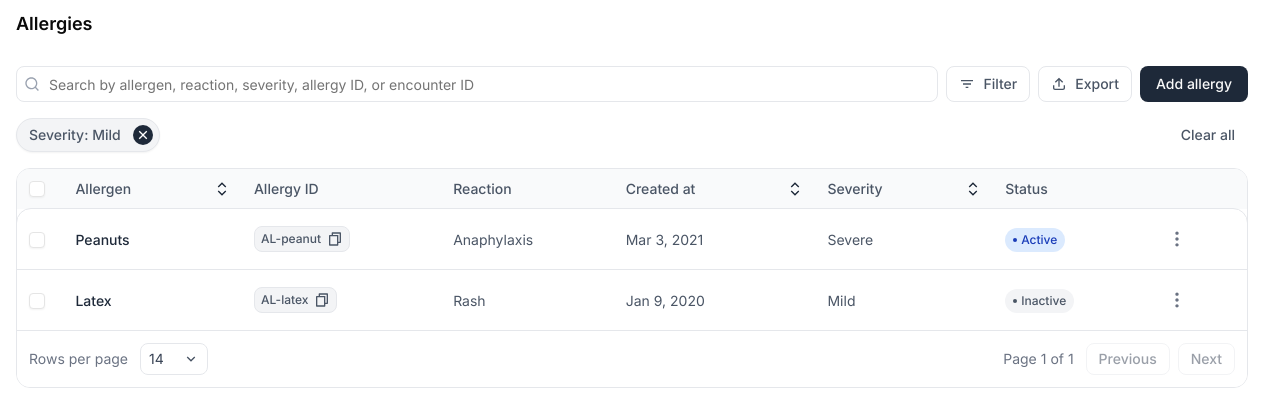
Test case: Allergies table › adds and removes severity filters from the filter menu
Click the button "Filter".
click(988, 84)  # box top-left (946, 66), bottom-right (1030, 102)
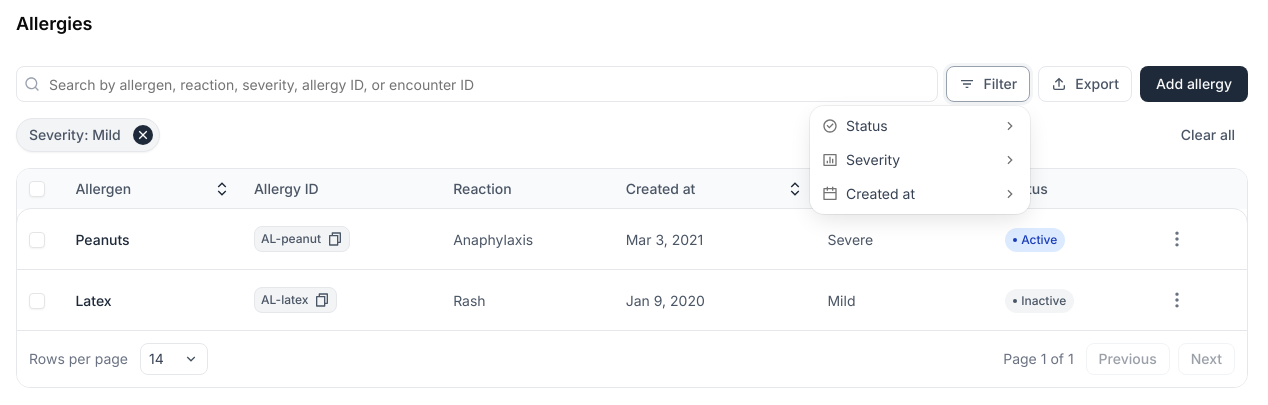
Click the menu item "Severity".
click(873, 160)  # box top-left (822, 151), bottom-right (1018, 168)
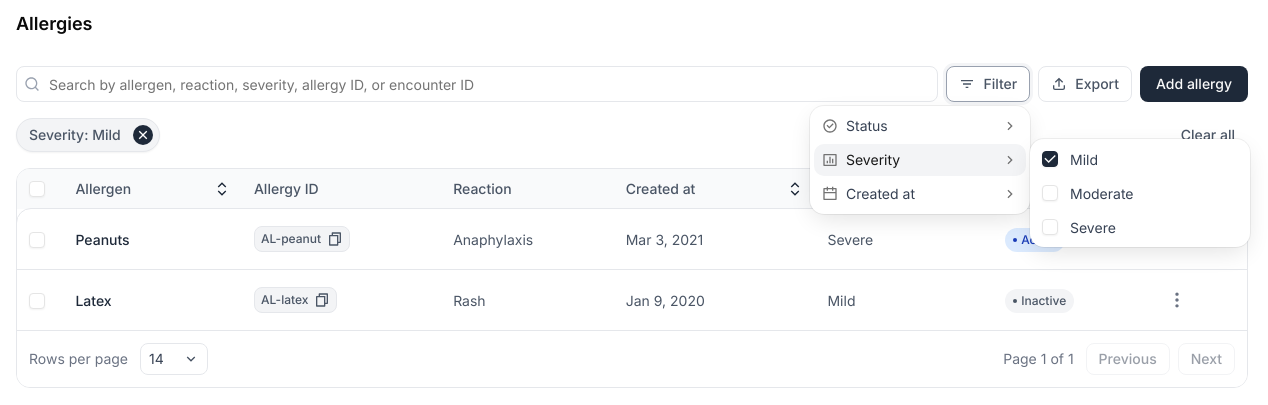
Now the 1st checkbox named "Mild" is checked, box top-left (1042, 151), bottom-right (1058, 167)
Now the checkbox named "Moderate" next to "Moderate" is not checked, box top-left (1042, 185), bottom-right (1058, 201)
